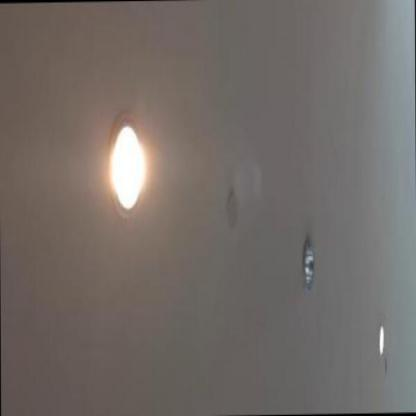light_on: (98, 89, 153, 231), (371, 310, 390, 368)
